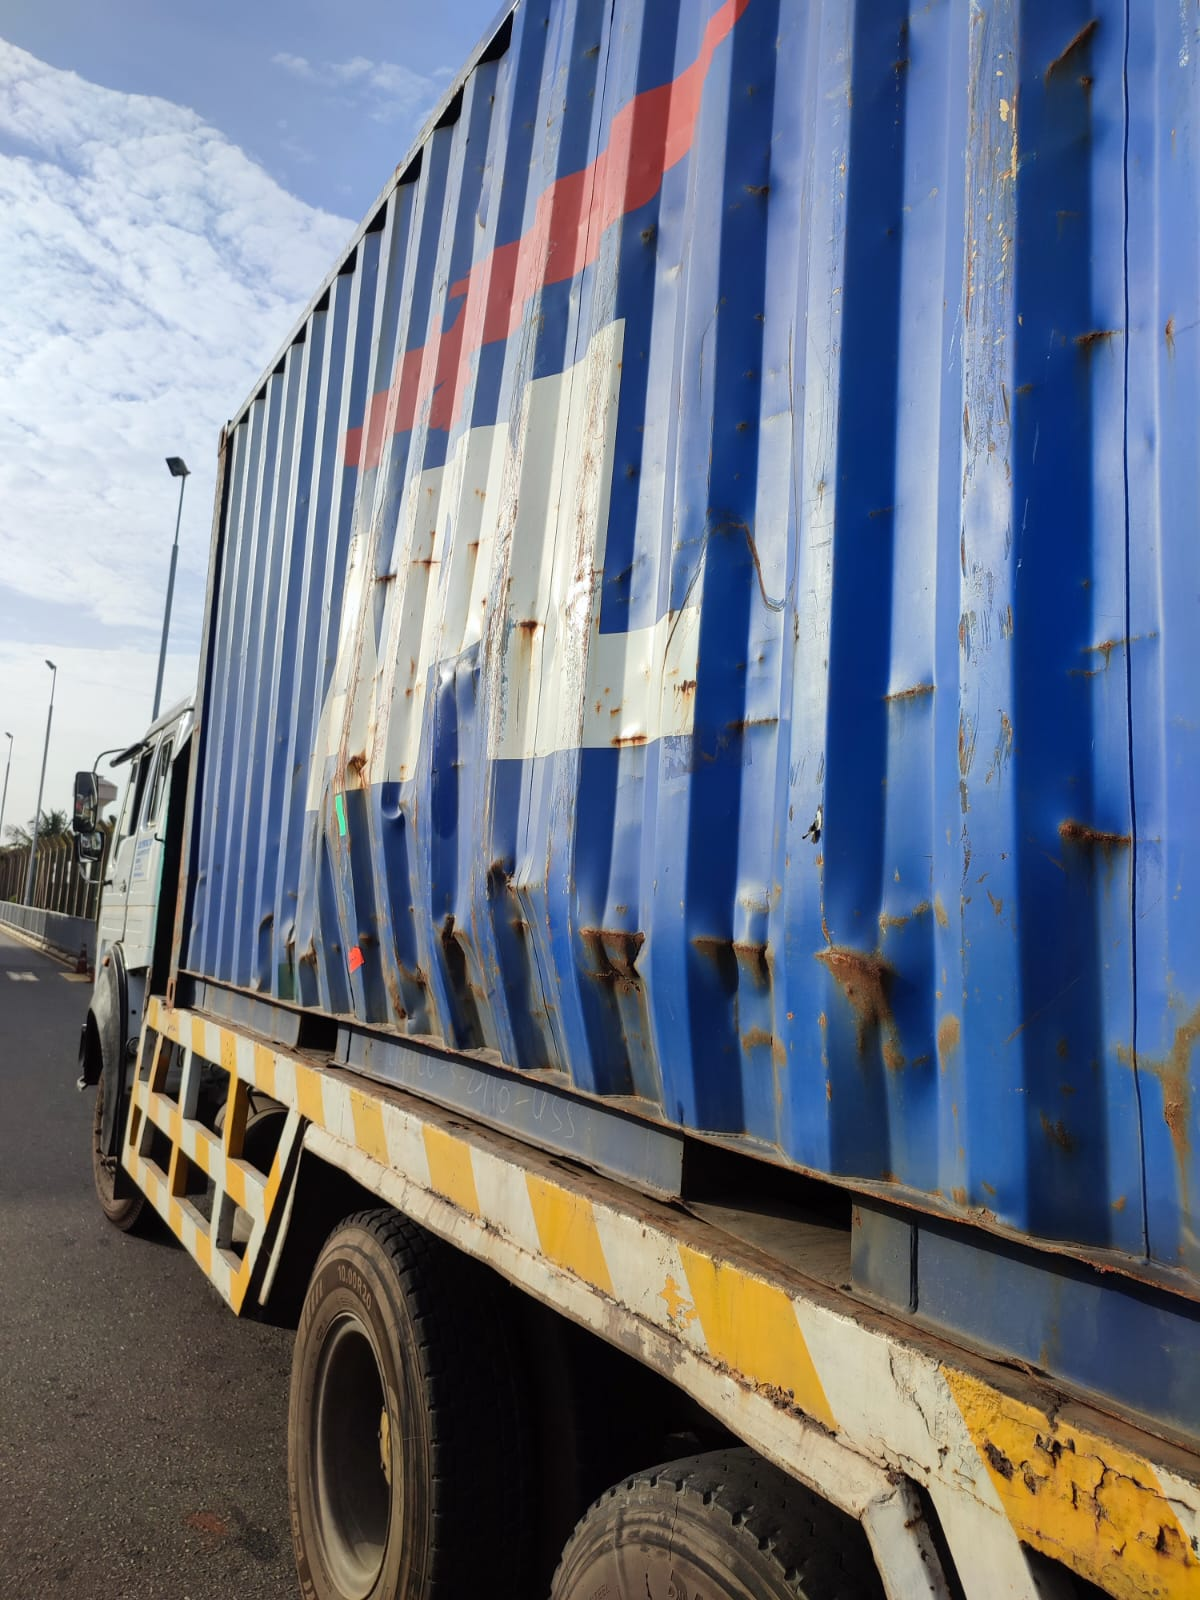moderate: (285, 625, 769, 998)
